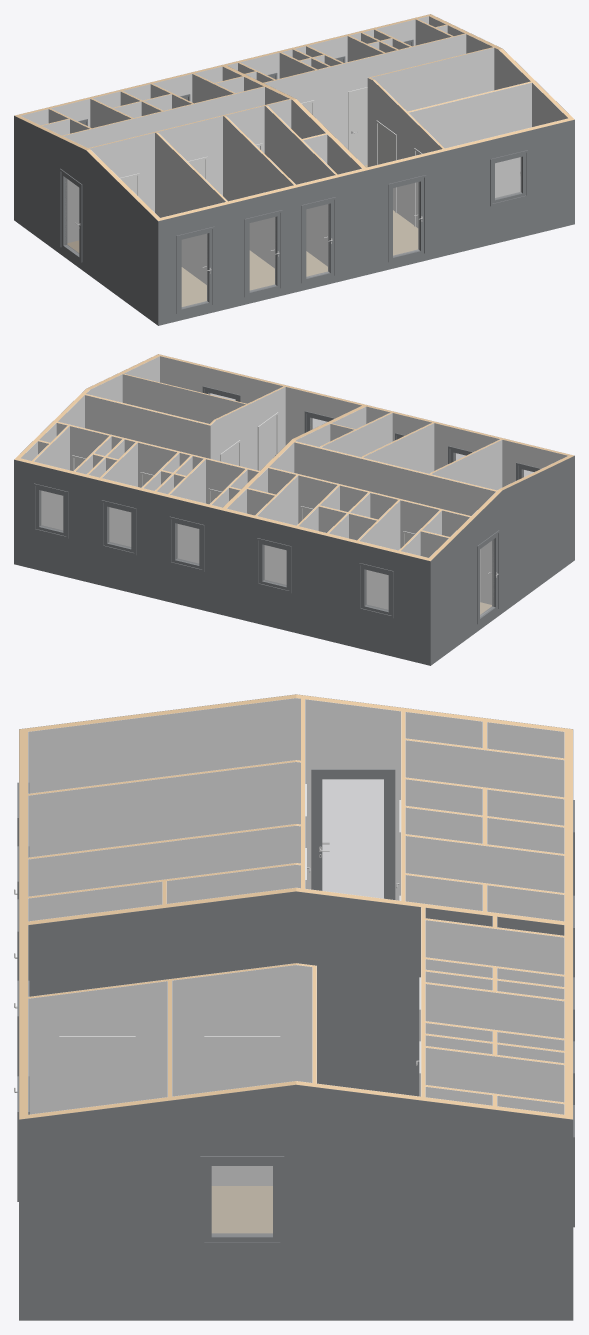
File: Kačiukai_R00.fbx
3 renders of one model, top to bottom at view 1: azimuth 30°, elevation 25°; view 2: azimuth 150°, elevation 25°; view 3: azimuth 270°, elevation 25°, orthographic. The views are drawn at different scales.
Visible parts, largest first — view 1: IfcWall/Part:2336143, IfcWall/Part:2336140, IfcWall/Part:2384051, IfcWall/Part:2384033, IfcWall/Part:2384040, IfcWall/Part:2384055, IfcWall/Part:2336148, IfcWall/Part:2387829, IfcWall/Part:2387832, IfcWall/Part:2405573, IfcWall/Part:2384037, IfcDoor/Durys išorinės:1000x2100x120 (kairinės):2406064 (+25 smaller); view 2: IfcWall/Part:2336149, IfcWall/Part:2336140, IfcWall/Part:2336142, IfcWall/Part:2387381, IfcWindow/Langai (Akrusta):900x1200x120 (varstomas-dešinin.0 (×3), IfcWall/Part:2384039, IfcWall/Part:2384037, IfcWall/Part:2384032, IfcWall/Part:2387829, IfcWall/Part:2387832, IfcWall/Part:2336145, IfcWall/Part:2405558 (+30 smaller); view 3: IfcWall/Part:2336146, IfcWall/Part:2384062, IfcWall/Part:2336139, IfcWall/Part:2387831, IfcWall/Part:2384035, IfcWall/Part:2384036, IfcDoor/Durys išorinės:1000x2100x120 (kairinės):2392655, IfcWall/Part:2387828, IfcWindow/Langai (Akrusta):1000x1200x120 (varstomas-dešinini, IfcWall/Part:2405560, IfcWall/Part:2405581, IfcWall/Part:2405537 (+20 smaller).
Boxes of the visible parts, x1=… form: IfcWall/Part:2336143: x1=158, y1=119, x2=574, y2=325; IfcWall/Part:2336140: x1=14, y1=115, x2=158, y2=325; IfcWall/Part:2384051: x1=264, y1=34, x2=466, y2=148; IfcWall/Part:2384033: x1=409, y1=82, x2=531, y2=197; IfcWall/Part:2384040: x1=371, y1=48, x2=494, y2=111; IfcWall/Part:2384055: x1=63, y1=87, x2=264, y2=242; IfcWall/Part:2336148: x1=20, y1=16, x2=428, y2=126; IfcWall/Part:2387829: x1=223, y1=116, x2=293, y2=268; IfcWall/Part:2387832: x1=155, y1=132, x2=225, y2=284; IfcWall/Part:2405573: x1=264, y1=106, x2=335, y2=266; IfcWall/Part:2384037: x1=367, y1=78, x2=442, y2=227; IfcDoor/Durys išorinės:1000x2100x120 (kairinės):2406064: x1=244, y1=210, x2=282, y2=297; IfcWall/Part:2336149: x1=14, y1=459, x2=430, y2=665; IfcWall/Part:2336140: x1=430, y1=455, x2=574, y2=665; IfcWall/Part:2336142: x1=160, y1=356, x2=568, y2=487; IfcWall/Part:2387381: x1=294, y1=442, x2=495, y2=604; IfcWindow/Langai (Akrusta):900x1200x120 (varstomas-dešinin.0 (×3): x1=33, y1=483, x2=204, y2=571; IfcWall/Part:2384039: x1=85, y1=395, x2=210, y2=458; IfcWall/Part:2384037: x1=210, y1=387, x2=285, y2=470; IfcWall/Part:2384032: x1=122, y1=374, x2=245, y2=423; IfcWall/Part:2387829: x1=363, y1=423, x2=434, y2=473; IfcWall/Part:2387832: x1=431, y1=440, x2=502, y2=490; IfcWall/Part:2336145: x1=21, y1=356, x2=159, y2=460; IfcWall/Part:2405558: x1=257, y1=475, x2=298, y2=584; IfcWall/Part:2336146: x1=19, y1=1084, x2=572, y2=1320; IfcWall/Part:2384062: x1=28, y1=891, x2=420, y2=1096; IfcWall/Part:2336139: x1=28, y1=698, x2=564, y2=900; IfcWall/Part:2387831: x1=28, y1=762, x2=300, y2=857; IfcWall/Part:2384035: x1=28, y1=981, x2=167, y2=1114; IfcWall/Part:2384036: x1=172, y1=965, x2=312, y2=1096; IfcDoor/Durys išorinės:1000x2100x120 (kairinės):2392655: x1=311, y1=769, x2=395, y2=899; IfcWall/Part:2387828: x1=28, y1=825, x2=300, y2=896; IfcWindow/Langai (Akrusta):1000x1200x120 (varstomas-dešinini: x1=200, y1=1156, x2=284, y2=1246; IfcWall/Part:2405560: x1=405, y1=836, x2=564, y2=892; IfcWall/Part:2405581: x1=405, y1=740, x2=564, y2=797; IfcWall/Part:2405537: x1=425, y1=984, x2=564, y2=1038.
Bounding box in the file's own units: 1208 × 338 × 729.
